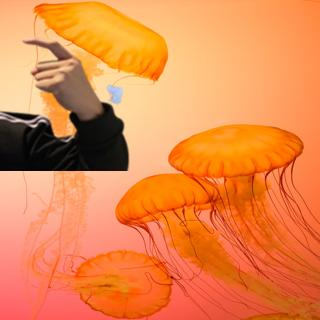WHY: (19, 32, 103, 119)
